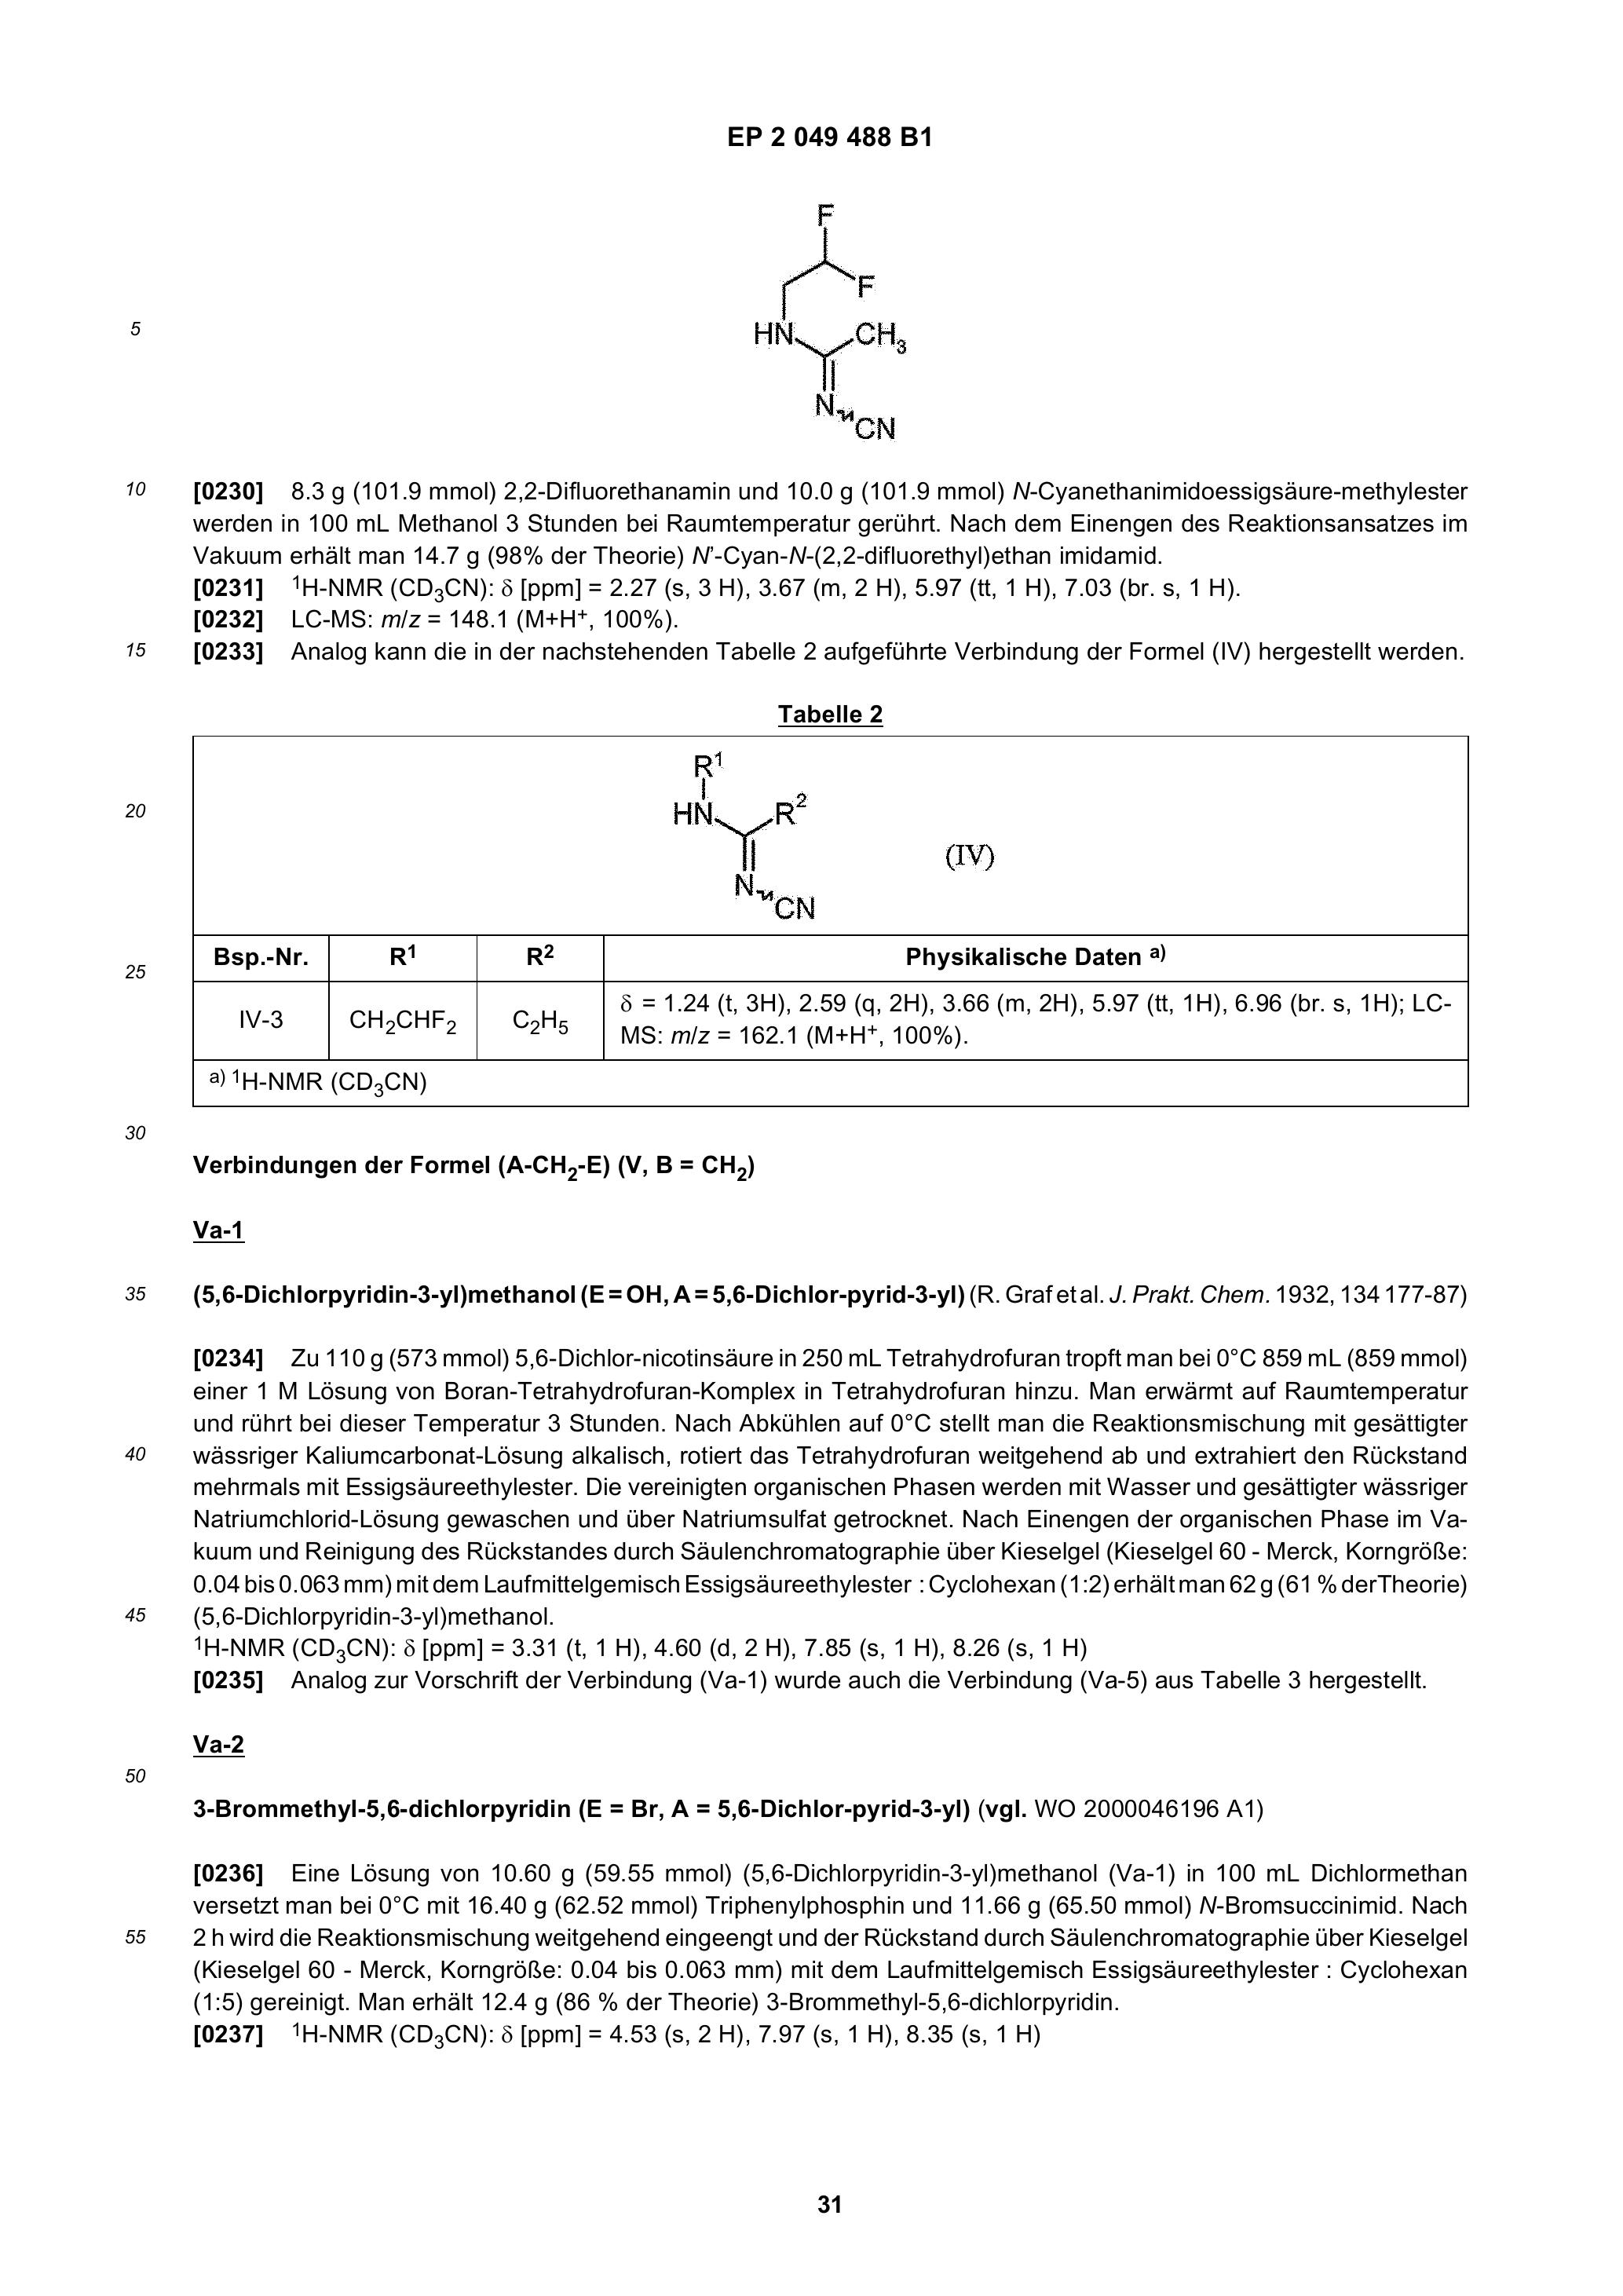intermediates: (667, 181, 970, 444)
markush-structures: (664, 731, 840, 929)
substitutes: (344, 998, 460, 1049), (502, 1000, 571, 1042)
